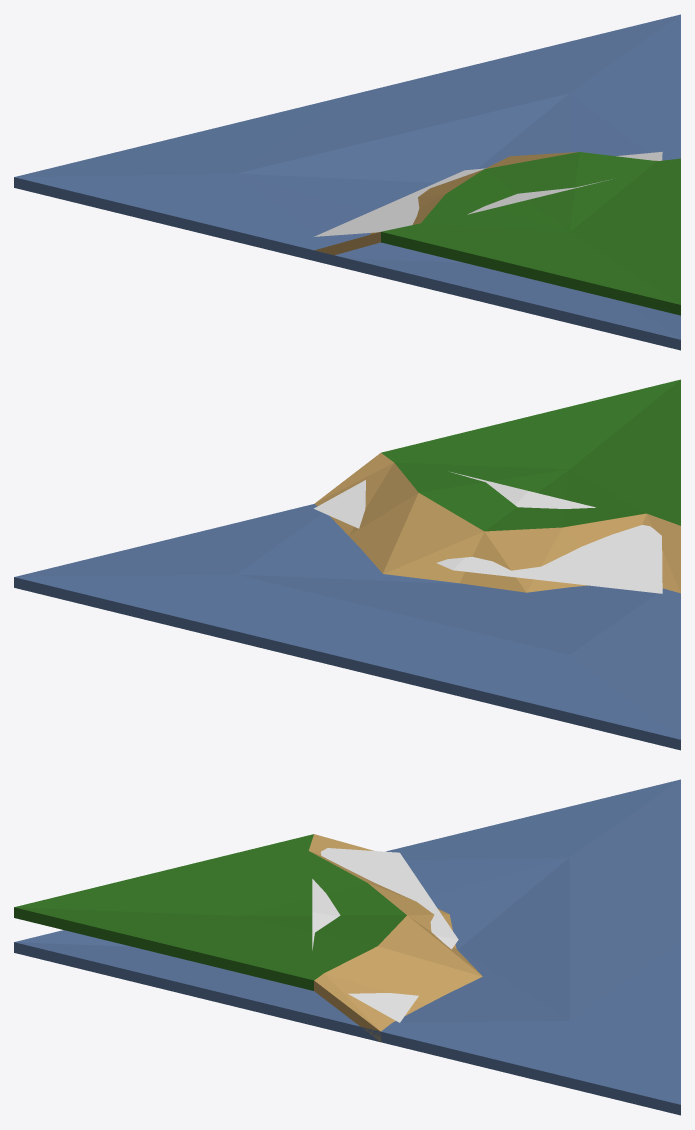
3 renders of one model, top to bottom at view 1: azimuth 30°, elevation 25°; view 2: azimuth 150°, elevation 25°; view 3: azimuth 270°, elevation 25°, orthographic.
Visible parts, largest first — view 1: water4.001, ground.008, grass7; view 2: water4.001, ground.008, grass7; view 3: water4.001, ground.008, grass7.
Boxes of the visible parts, <box> form: water4.001: <box>14,14,680,350</box>; ground.008: <box>315,152,680,315</box>; grass7: <box>314,151,662,236</box>; water4.001: <box>14,504,680,750</box>; ground.008: <box>314,379,680,593</box>; grass7: <box>314,472,662,593</box>; water4.001: <box>14,779,680,1115</box>; ground.008: <box>14,834,482,1041</box>; grass7: <box>312,848,458,1022</box>.
Size of the model in its own units: 1 by 0.0672 by 0.866.
